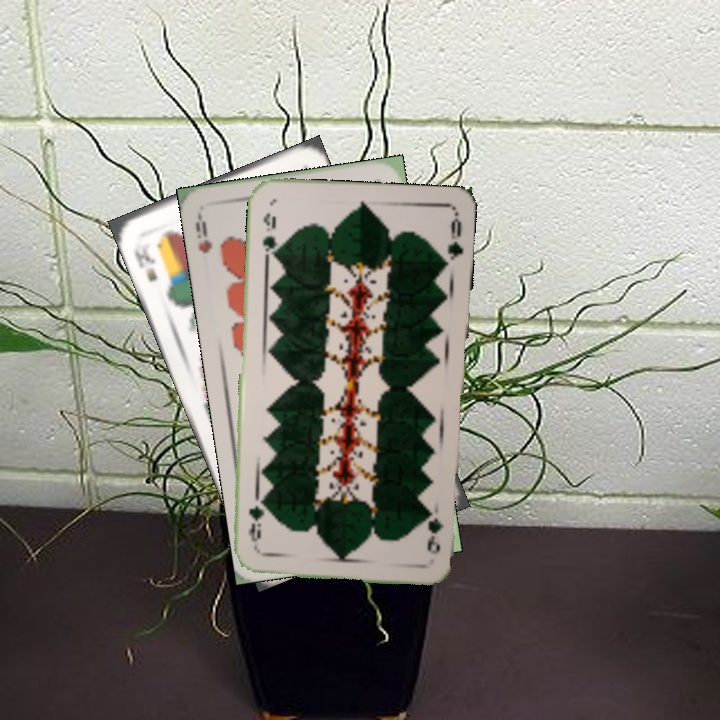EK: (129, 236, 161, 285)
G9: (423, 501, 446, 557), (258, 209, 280, 261)
H9: (191, 210, 215, 256)
